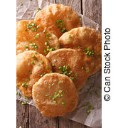poori: (16, 19, 59, 66), (61, 27, 102, 76), (33, 72, 78, 116), (17, 51, 52, 101), (35, 3, 83, 39), (47, 49, 88, 89)
